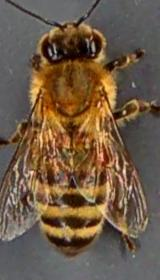varroa_mite: (88, 140, 115, 171)
